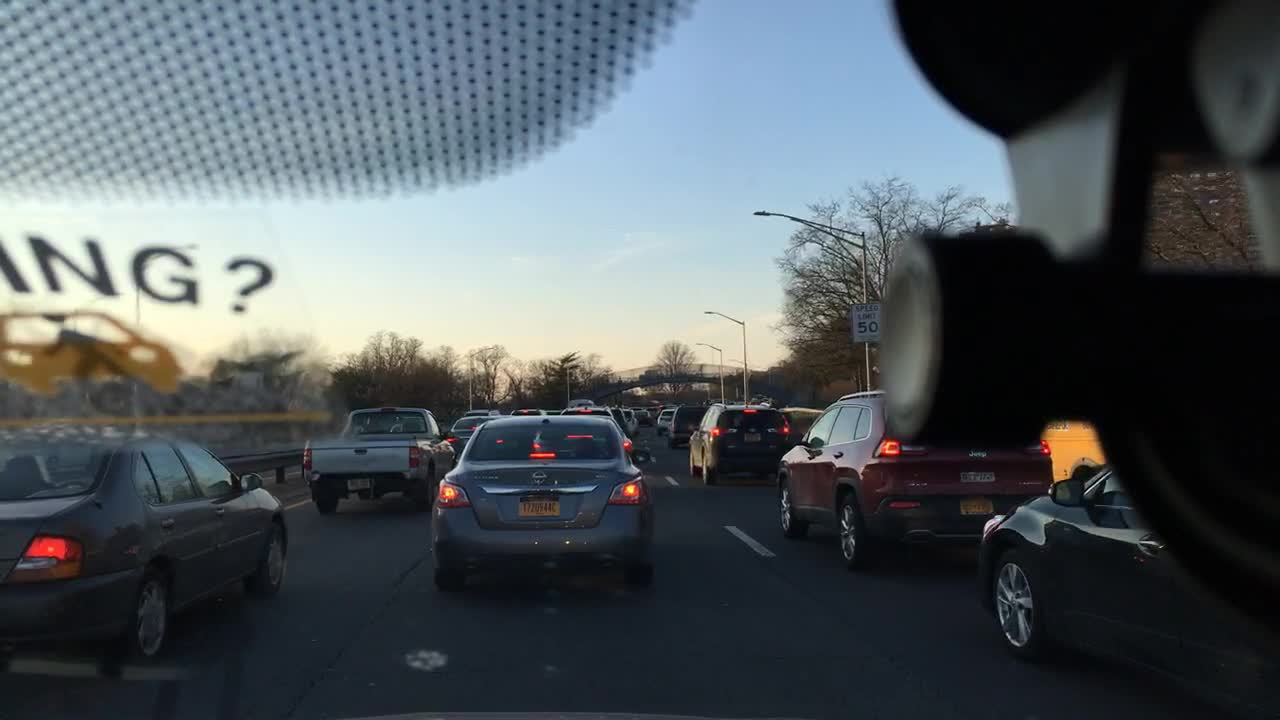car: (974, 452, 1277, 716), (0, 436, 288, 656), (775, 386, 1052, 567), (430, 414, 656, 586), (687, 401, 797, 486), (442, 413, 494, 462), (665, 404, 711, 447), (608, 406, 632, 441), (559, 406, 613, 416), (657, 406, 676, 434), (510, 406, 561, 416), (620, 406, 639, 431), (629, 406, 651, 423), (463, 408, 500, 416), (567, 398, 593, 406), (647, 406, 660, 417)
traffic sign: (849, 301, 876, 344)
truck: (300, 402, 458, 513)
